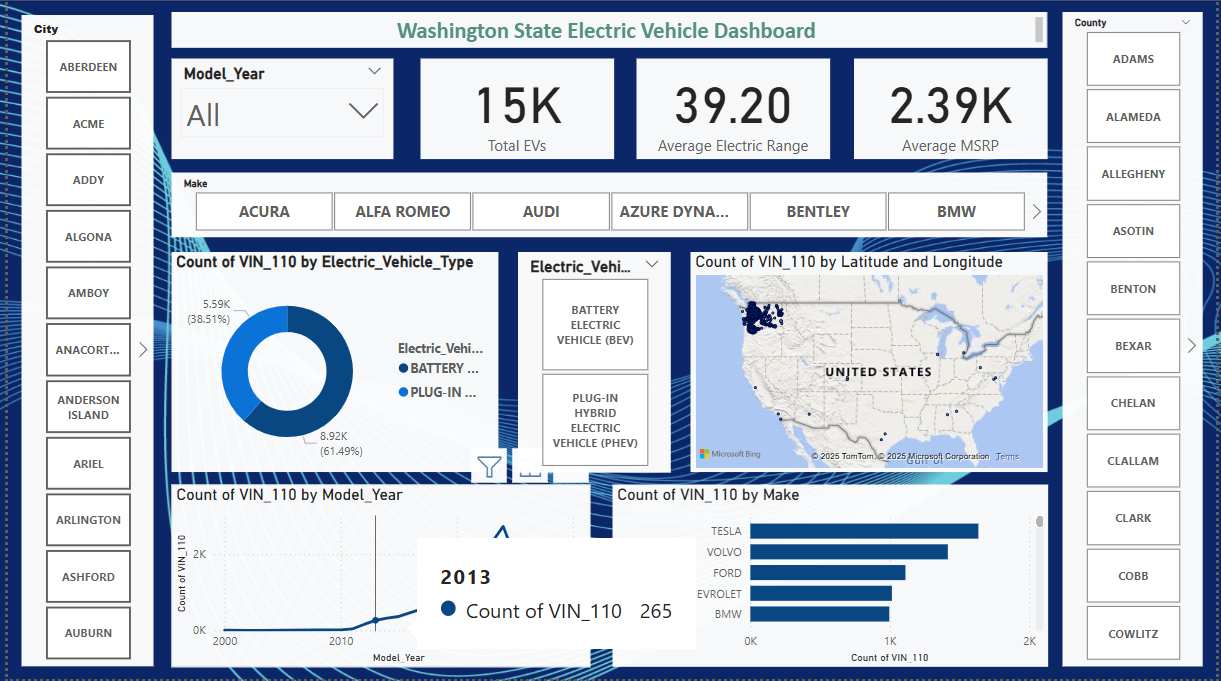

Layout of this report page (visuals, bound fields, positions):
{"tool":"powerbi","page":{"name":"Page 1","canvas":[1280,720],"ordinal":0},"visuals":[{"type":"card","fields":{"Values":["Cleaned_Electric_Vehicle_Data.Total EVs"]},"box":[437.4,62,205.2,106.6],"z":0},{"type":"card","fields":{"Values":["Cleaned_Electric_Vehicle_Data.Average Electric Range"]},"box":[666.5,62,205.2,106.6],"z":1000},{"type":"card","fields":{"Values":["Cleaned_Electric_Vehicle_Data.Average MSRP"]},"box":[897.1,62,205.2,106.6],"z":2000},{"type":"donutChart","fields":{"Category":["Cleaned_Electric_Vehicle_Data.Electric_Vehicle_Type"],"Y":["CountNonNull(Cleaned_Electric_Vehicle_Data.VIN_110)"]},"box":[173.5,266.9,347,233.5],"z":3000},{"type":"map","fields":{"Y":["Cleaned_Electric_Vehicle_Data.Latitude"],"X":["Cleaned_Electric_Vehicle_Data.Longitude"],"Size":["CountNonNull(Cleaned_Electric_Vehicle_Data.VIN_110)"]},"box":[724,266.9,378.7,233.5],"z":4000},{"type":"clusteredBarChart","fields":{"Category":["Cleaned_Electric_Vehicle_Data.Make"],"Y":["CountNonNull(Cleaned_Electric_Vehicle_Data.VIN_110)"]},"box":[640.6,513.8,462.1,193.5],"z":5000},{"type":"lineChart","fields":{"Category":["Cleaned_Electric_Vehicle_Data.Model_Year"],"Y":["CountNonNull(Cleaned_Electric_Vehicle_Data.VIN_110)"]},"box":[173.5,513.8,443.7,193.5],"z":6000},{"type":"slicer","fields":{"Values":["Cleaned_Electric_Vehicle_Data.City"]},"box":[15,16.7,140.1,690.6],"z":7000},{"type":"slicer","fields":{"Values":["Cleaned_Electric_Vehicle_Data.County"]},"box":[1117.6,13.3,148.5,693.9],"z":8000},{"type":"slicer","fields":{"Values":["Cleaned_Electric_Vehicle_Data.Model_Year"]},"box":[173.4,62,235.4,106.6],"z":9000},{"type":"slicer","fields":{"Values":["Cleaned_Electric_Vehicle_Data.Make"]},"box":[173.4,182.9,928.9,68.4],"z":10000},{"type":"slicer","fields":{"Values":["Cleaned_Electric_Vehicle_Data.Electric_Vehicle_Type"]},"box":[540.8,267.2,162.2,233.8],"z":11000},{"type":"textbox","box":[173.4,12.7,928.9,38.2],"z":12000}]}

Visuals, with their boxes in screenshot pixels (x1, y1, x2, y2), scaled from the page's 1280x720 canvas onto the 1221x681 screenshot:
card - Cleaned_Electric_Vehicle_Data.Total EVs: bbox(417, 59, 613, 159)
card - Cleaned_Electric_Vehicle_Data.Average Electric Range: bbox(636, 59, 832, 159)
card - Cleaned_Electric_Vehicle_Data.Average MSRP: bbox(856, 59, 1051, 159)
donutChart - Cleaned_Electric_Vehicle_Data.Electric_Vehicle_Type x CountNonNull(Cleaned_Electric_Vehicle_Data.VIN_110): bbox(166, 252, 497, 473)
map - Cleaned_Electric_Vehicle_Data.Latitude x Cleaned_Electric_Vehicle_Data.Longitude: bbox(691, 252, 1052, 473)
clusteredBarChart - Cleaned_Electric_Vehicle_Data.Make x CountNonNull(Cleaned_Electric_Vehicle_Data.VIN_110): bbox(611, 486, 1052, 669)
lineChart - Cleaned_Electric_Vehicle_Data.Model_Year x CountNonNull(Cleaned_Electric_Vehicle_Data.VIN_110): bbox(166, 486, 589, 669)
slicer - Cleaned_Electric_Vehicle_Data.City: bbox(14, 16, 148, 669)
slicer - Cleaned_Electric_Vehicle_Data.County: bbox(1066, 13, 1208, 669)
slicer - Cleaned_Electric_Vehicle_Data.Model_Year: bbox(165, 59, 390, 159)
slicer - Cleaned_Electric_Vehicle_Data.Make: bbox(165, 173, 1051, 238)
slicer - Cleaned_Electric_Vehicle_Data.Electric_Vehicle_Type: bbox(516, 253, 671, 474)
textbox: bbox(165, 12, 1051, 48)
